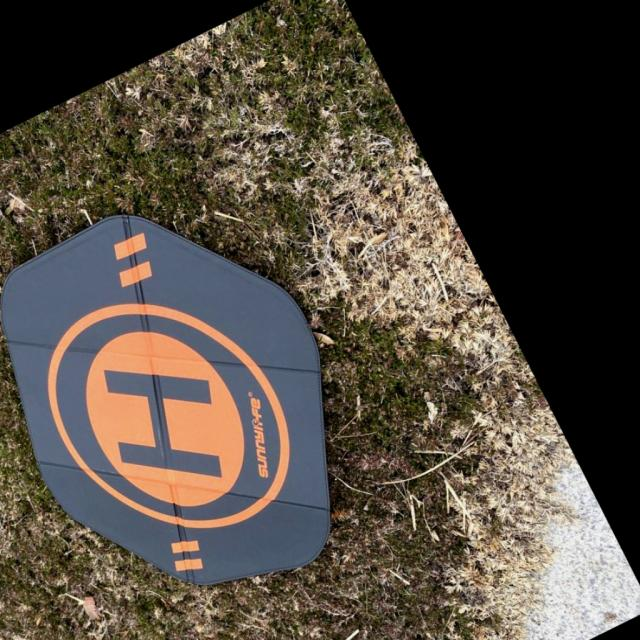helipad: (41, 296, 295, 533)
